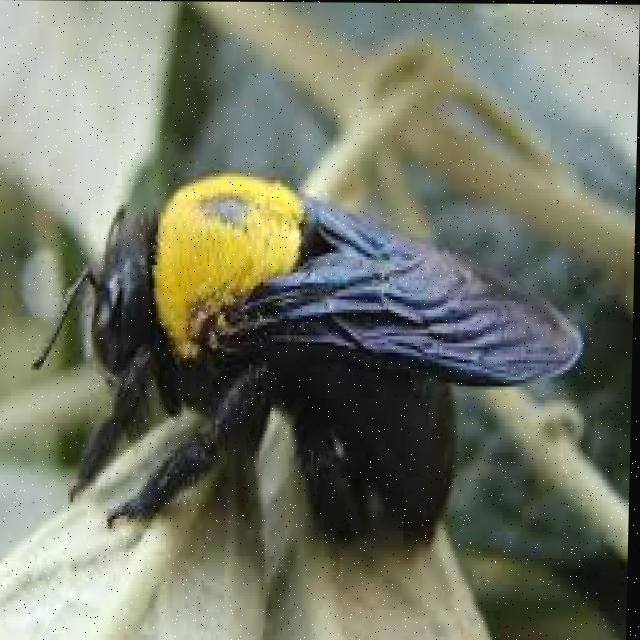Xylocopa: (44, 157, 581, 575)
